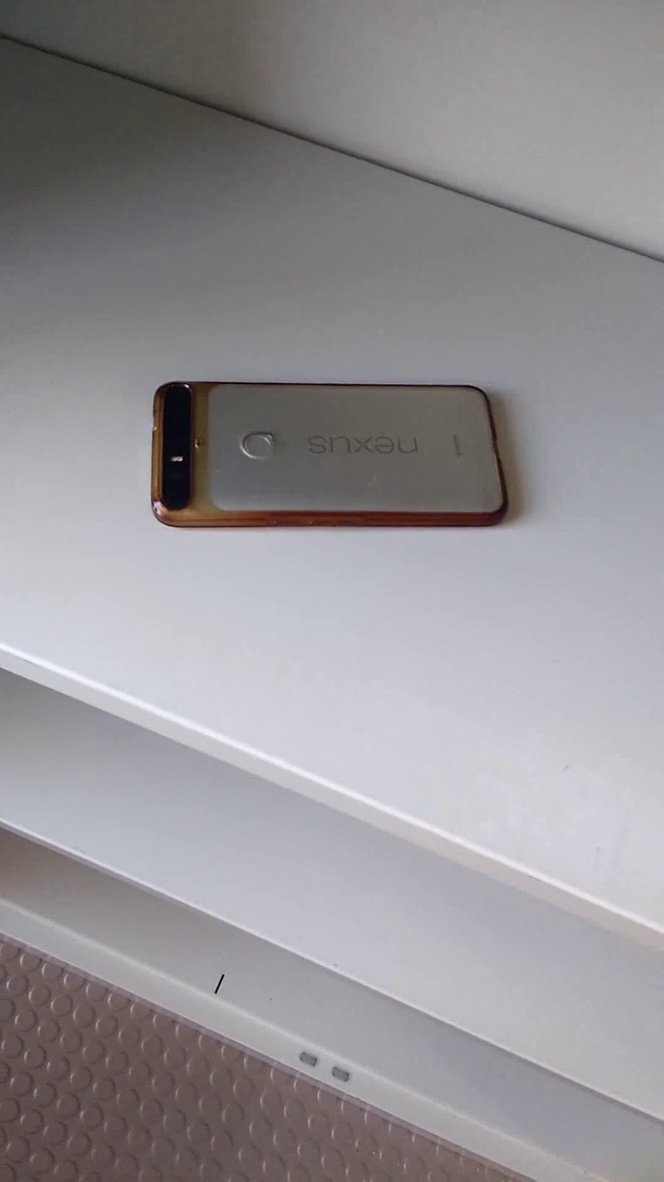phone: (140, 364, 535, 555)
